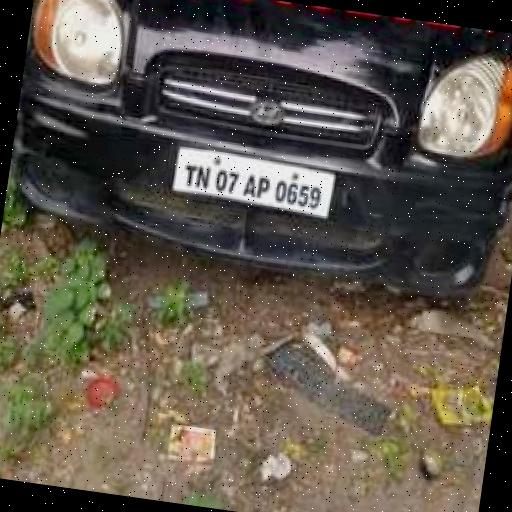license_plate`: (170, 144, 333, 214)
